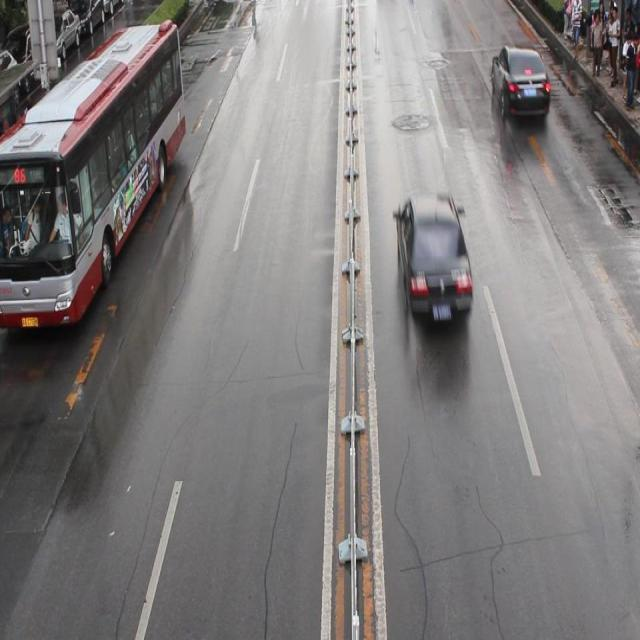car: (396, 193, 473, 324), (490, 43, 550, 121)
van: (1, 17, 186, 321)
